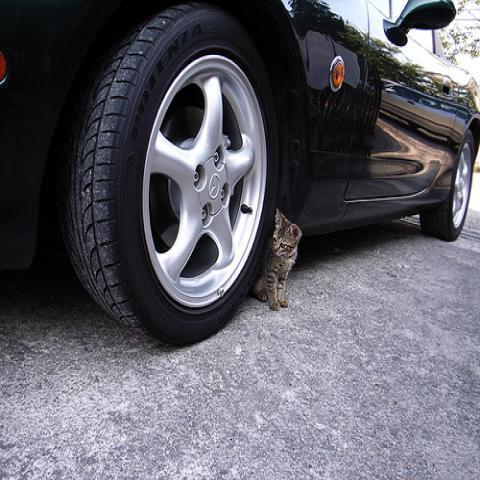car: (1, 0, 479, 351)
